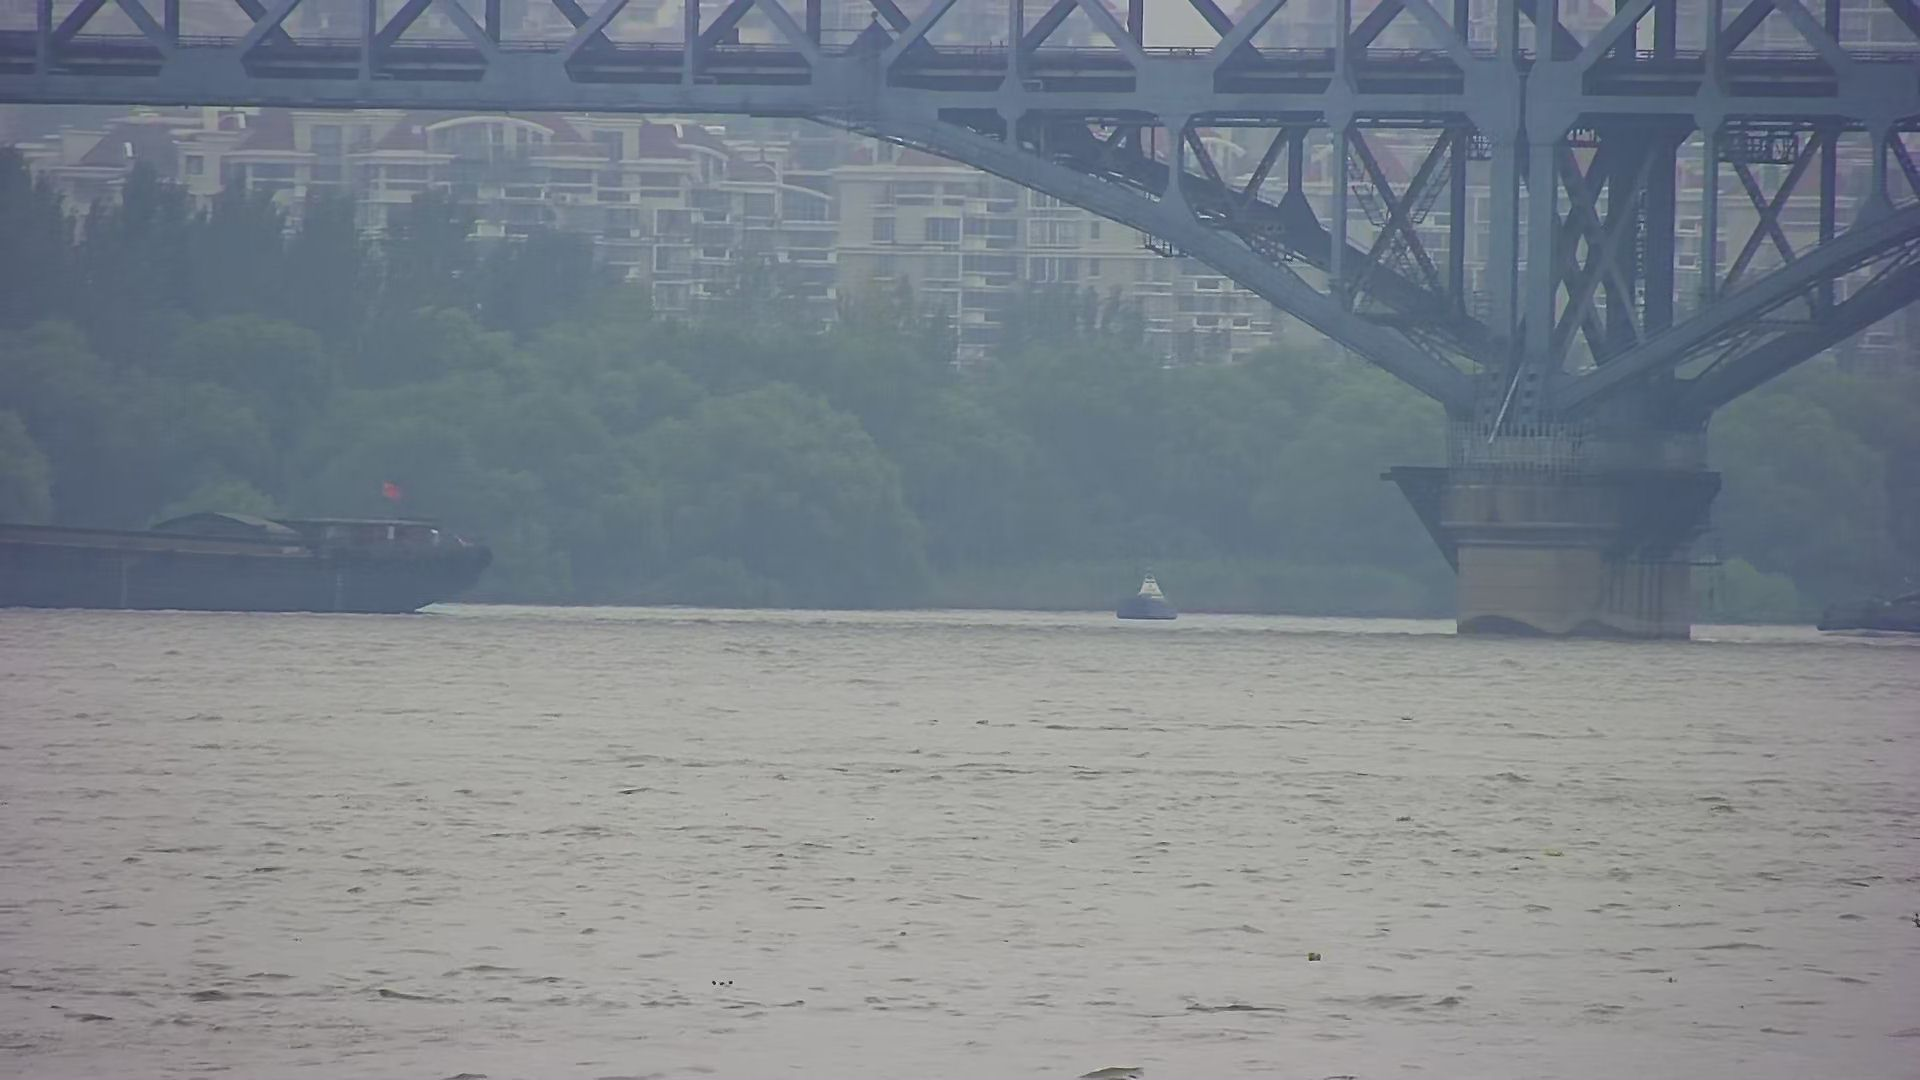boat: (1102, 551, 1201, 626)
bridge: (1, 1, 1913, 641)
ship: (1, 456, 522, 622)
